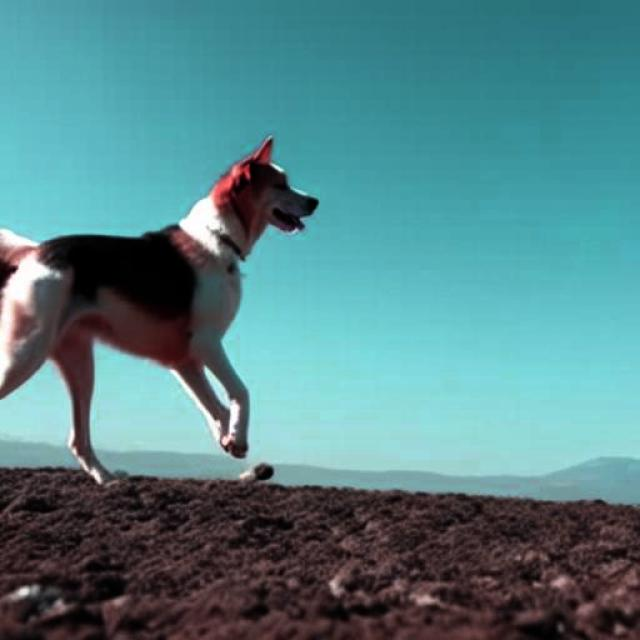Dog: (0, 134, 320, 484)
